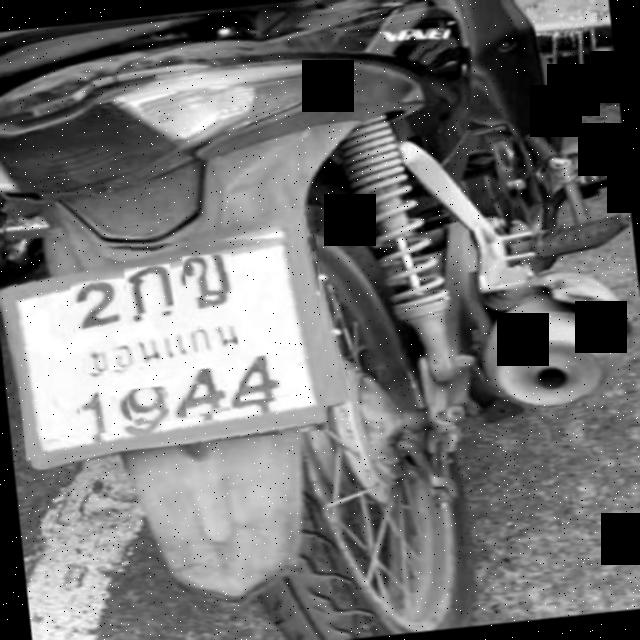letters: (70, 276, 126, 336), (124, 264, 174, 316), (236, 353, 290, 401), (180, 366, 230, 417), (182, 251, 234, 298), (76, 378, 115, 436), (126, 386, 171, 426)
license-plate: (9, 234, 329, 459)
province: (85, 324, 238, 372)
